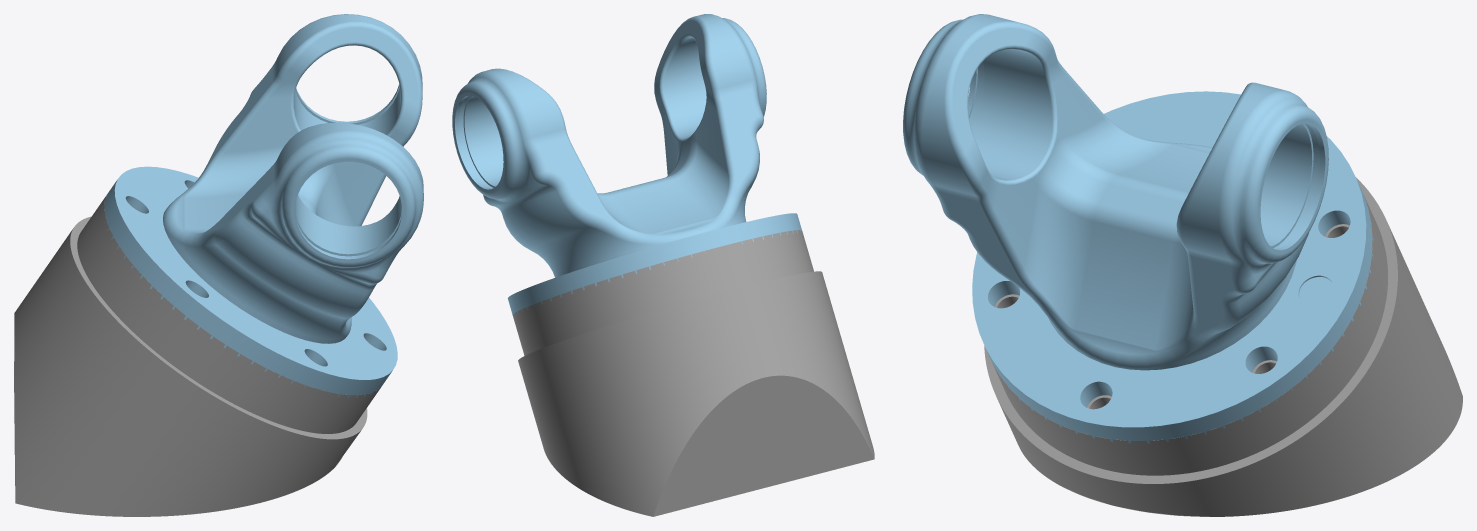
File: cardan_bas4_2.dae
The picture shows the model from 3 angles, left to right: view 1: azimuth 30°, elevation 25°; view 2: azimuth 150°, elevation 25°; view 3: azimuth 270°, elevation 25°; orthographic projection. The views are drawn at different scales.
Visible parts, largest first — view 1: STD04_0300_Articulation MISTRAL 600_M600_10, STD04_0300_Articulation MISTRAL 600_M600_4_10; view 2: STD04_0300_Articulation MISTRAL 600_M600_4_10, STD04_0300_Articulation MISTRAL 600_M600_10; view 3: STD04_0300_Articulation MISTRAL 600_M600_10, STD04_0300_Articulation MISTRAL 600_M600_4_10.
Part boxes in pixels (x1,y1,x2,y2): STD04_0300_Articulation MISTRAL 600_M600_10: (104, 14, 423, 397); STD04_0300_Articulation MISTRAL 600_M600_4_10: (14, 195, 381, 516); STD04_0300_Articulation MISTRAL 600_M600_4_10: (512, 230, 874, 516); STD04_0300_Articulation MISTRAL 600_M600_10: (452, 14, 801, 314); STD04_0300_Articulation MISTRAL 600_M600_10: (903, 14, 1373, 443); STD04_0300_Articulation MISTRAL 600_M600_4_10: (984, 177, 1462, 516).
Size of the model in its own units: 0.149 by 0.1373 by 0.1228.
